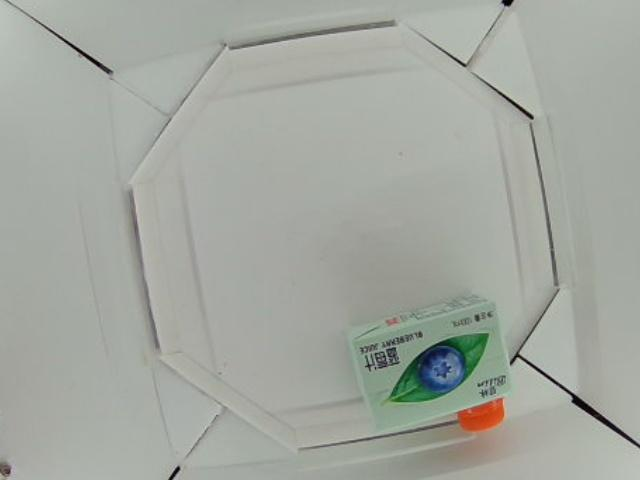Bottle: (345, 293, 514, 435)
